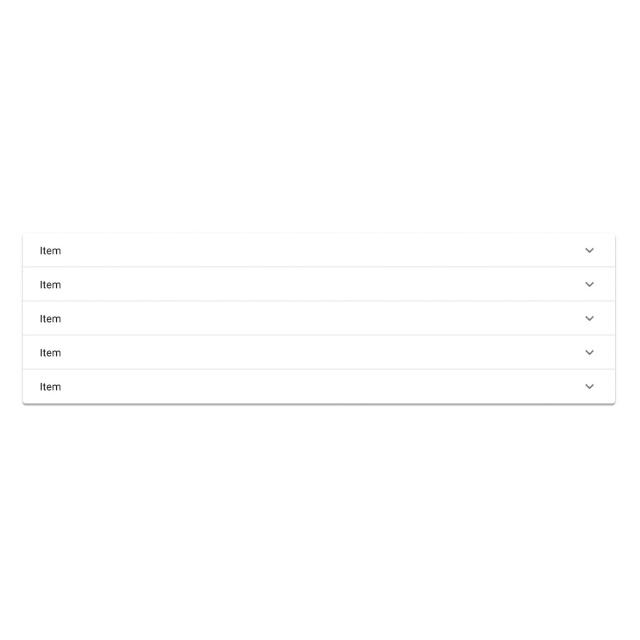QLabel: (38, 245, 62, 255), (39, 279, 61, 289), (40, 381, 60, 391), (39, 348, 61, 357), (40, 314, 62, 322)
VExpansionPanel: (24, 301, 614, 333), (24, 233, 614, 264), (24, 371, 614, 402), (24, 268, 614, 298), (24, 336, 614, 366)
